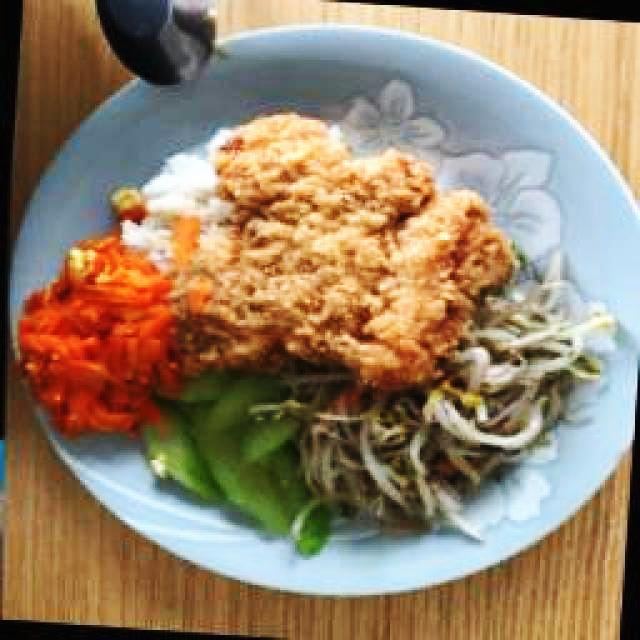carrot_eggs: (17, 235, 173, 442)
fried_chicken: (169, 118, 522, 398)
mung_bean_sprouts: (307, 402, 545, 511), (489, 296, 610, 397)
rice: (141, 153, 216, 212)
